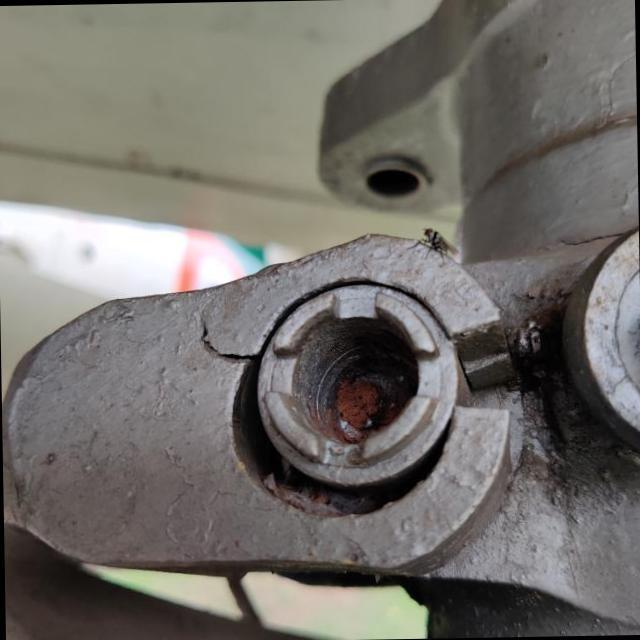Rupture: (191, 312, 259, 364)
